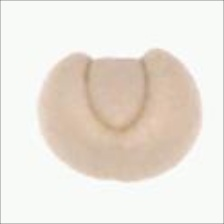L5: (83, 53, 153, 136)
L6: (36, 46, 207, 184)
